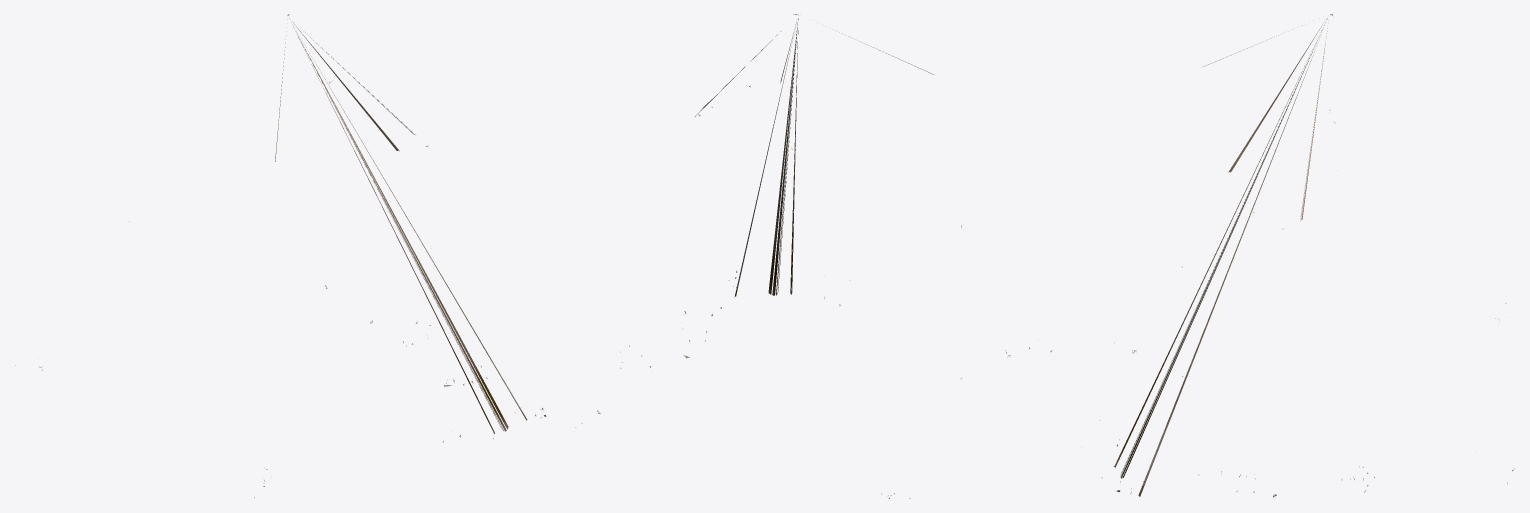
The model's file is orc_pen_01.glb.
3 renders of one model, left to right at view 1: azimuth 30°, elevation 25°; view 2: azimuth 150°, elevation 25°; view 3: azimuth 270°, elevation 25°, orthographic. The views are drawn at different scales.
Visible parts, largest first — view 1: geometry_0; view 2: geometry_0; view 3: geometry_0.
Boxes of the visible parts, left/top/right/bottom form: geometry_0: left=15, top=14, right=546, bottom=497; geometry_0: left=575, top=14, right=1052, bottom=498; geometry_0: left=1099, top=14, right=1513, bottom=497.
Bounding box in the file's own units: 0.8332 × 0.8697 × 0.8304.
1 material, 1 textured.
